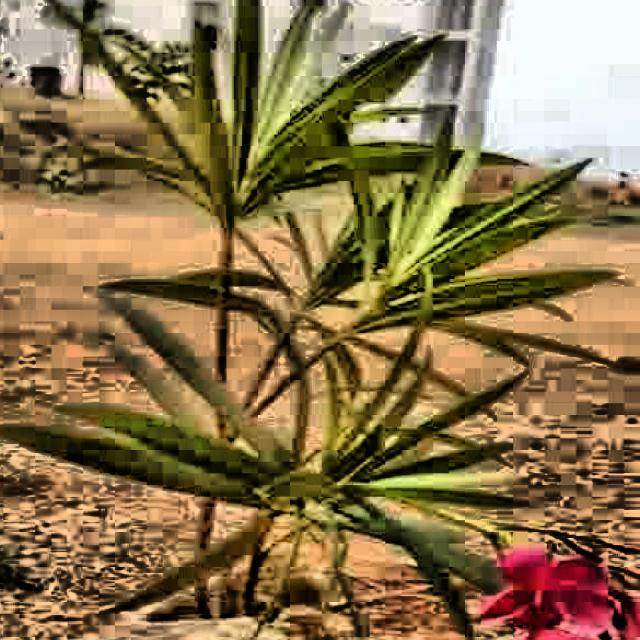Oleander: (1, 1, 640, 640)
